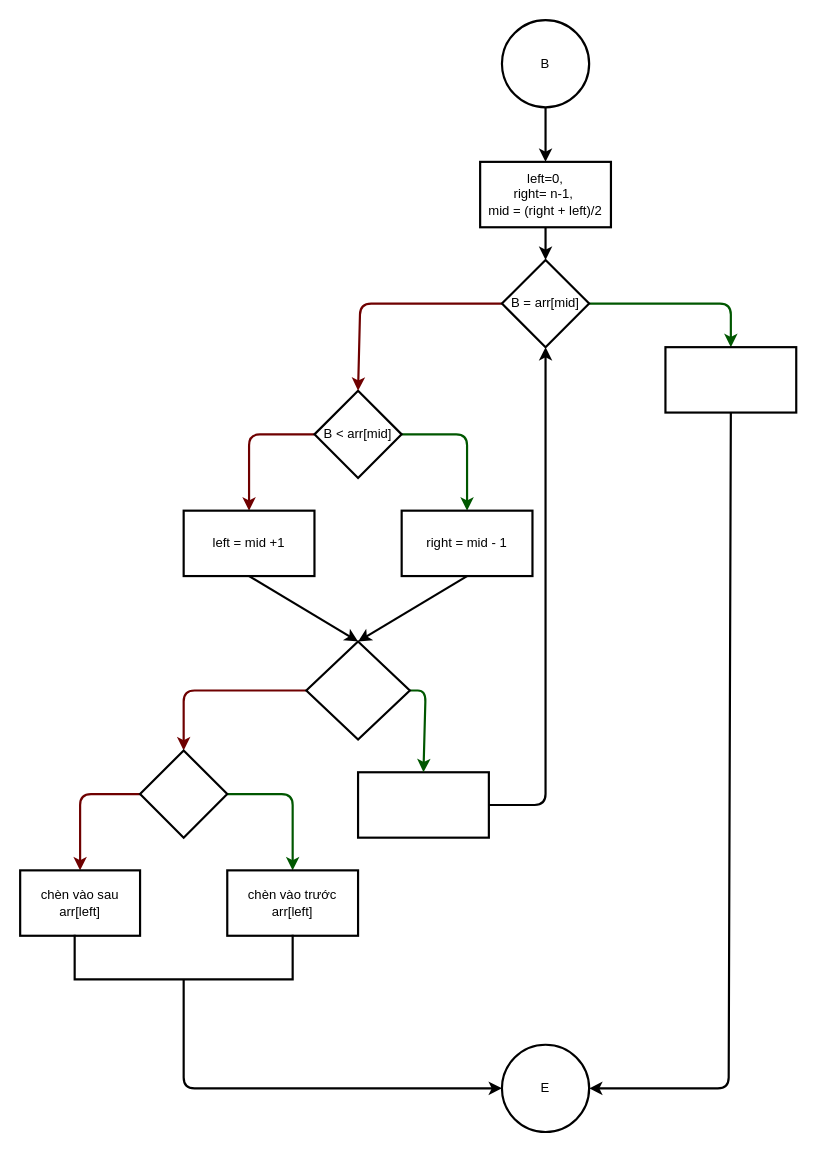
Some shapes in this 815 by 1151 pixel diagram are drawn without their labels. The centre of each missing label's shape, as x and y in pixels:
"B < arr[left]" belongs at (x=183, y=793).
"chèn vào trước hoặc sau arr[mid]" belongs at (x=730, y=379).
"left != right" belongs at (x=357, y=690).
"mid = (right + left)/2" belongs at (x=422, y=804).
